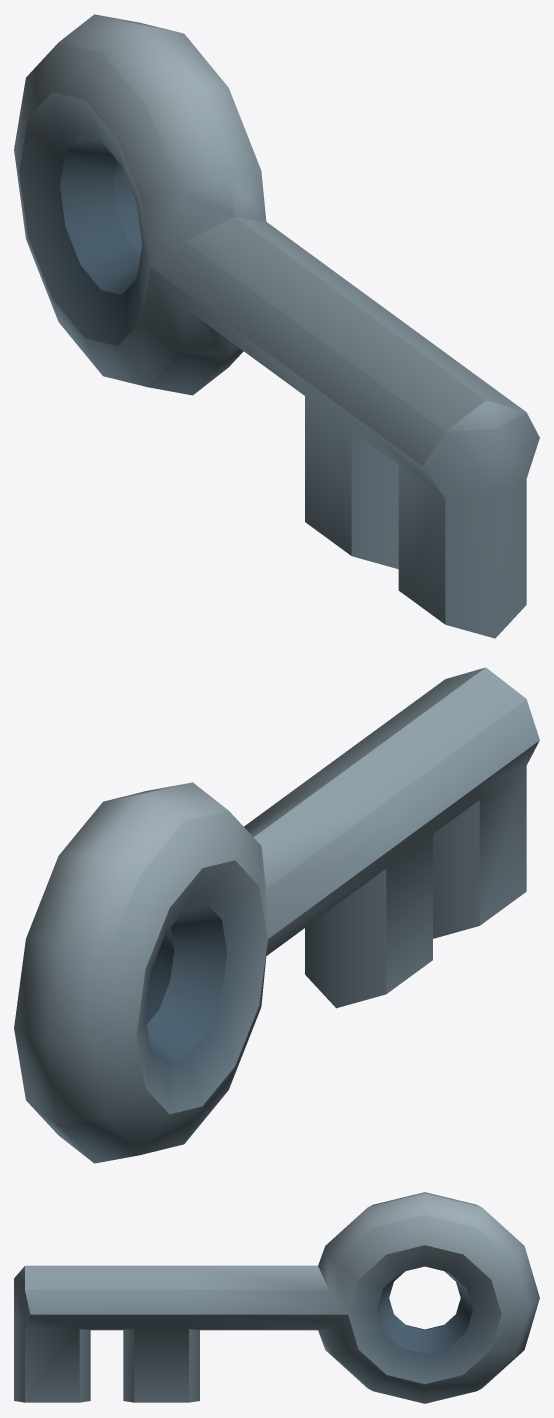
The model's file is key_B.obj.
The picture shows the model from 3 angles, top to bottom: view 1: azimuth 30°, elevation 25°; view 2: azimuth 150°, elevation 25°; view 3: azimuth 270°, elevation 25°; orthographic projection. The views are drawn at different scales.
Parts seen in each view (by area): view 1: key_B; view 2: key_B; view 3: key_B.
Boxes of the visible parts, x1,y1,x2,y2 form: key_B: [14, 14, 539, 638]; key_B: [14, 667, 539, 1163]; key_B: [14, 1192, 539, 1403].
Size of the model in its own units: 0.1449 by 0.4209 by 0.9621.
1 material, 1 textured.
